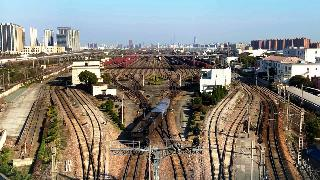train: (130, 97, 172, 148)
